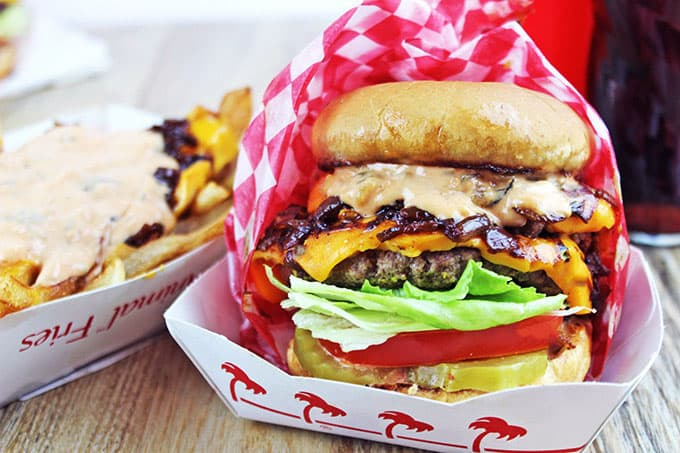hamburger_buns: (295, 74, 616, 196)
